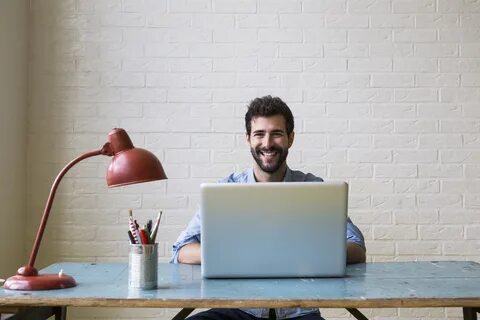awake: (170, 94, 367, 267)
